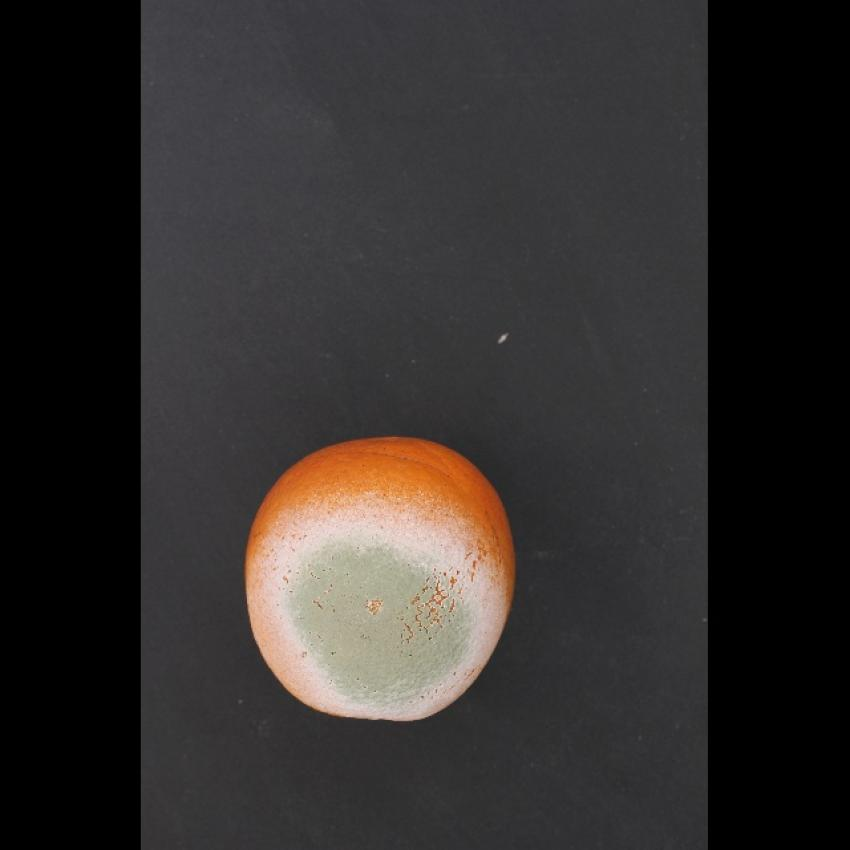Mal estado: (239, 418, 524, 729)
